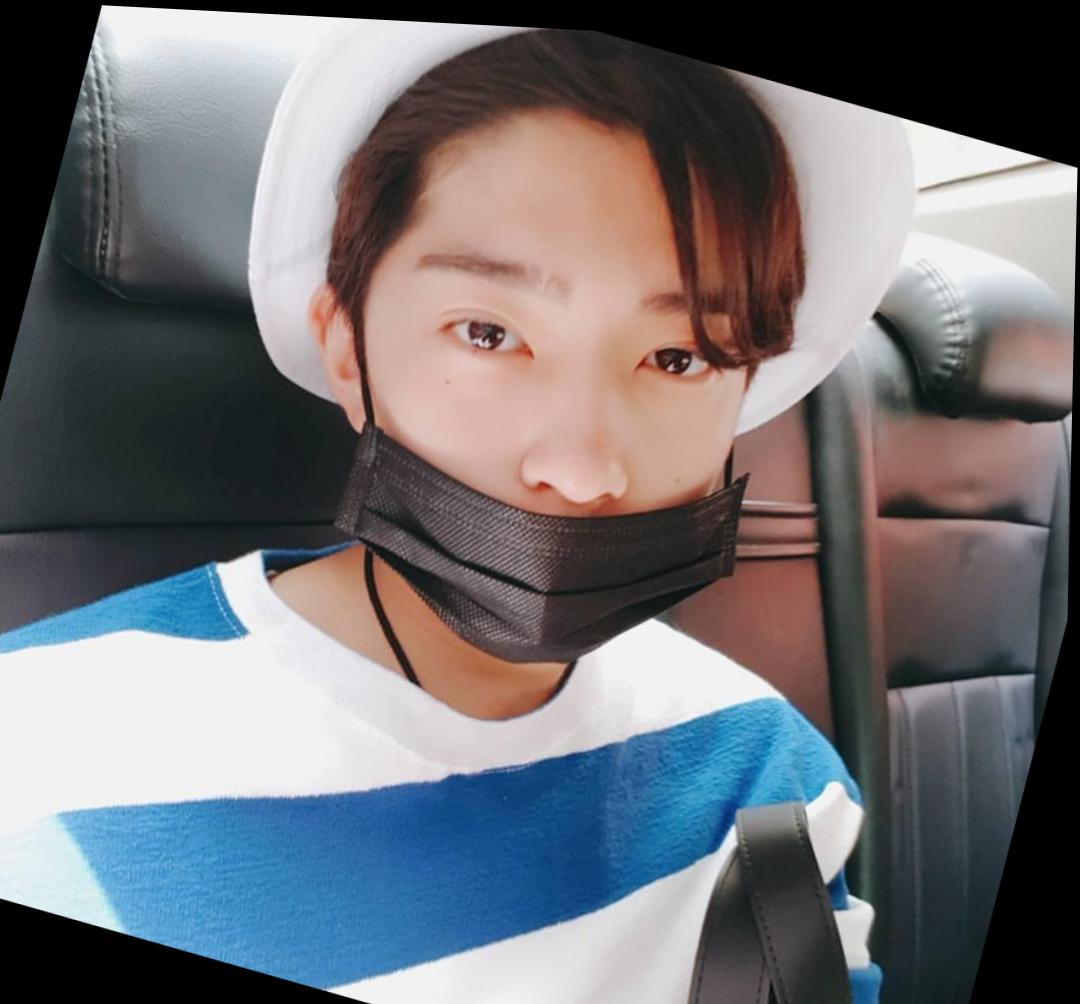WRONG: (319, 131, 813, 698)
